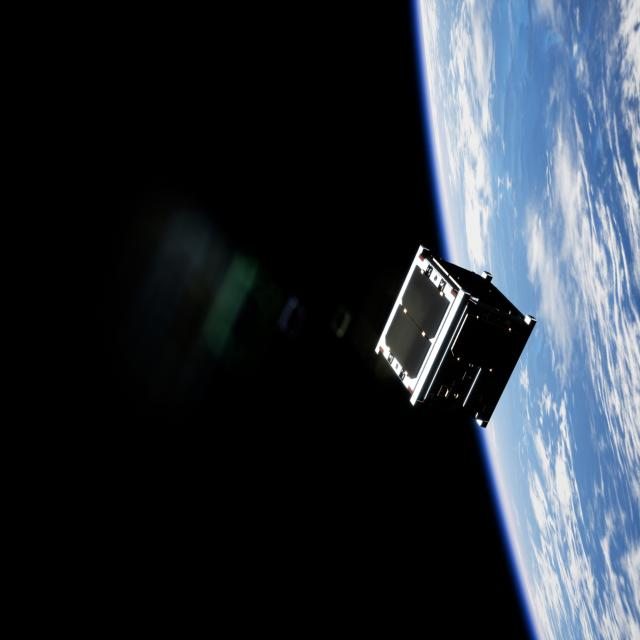satellite: (365, 255, 540, 420)
